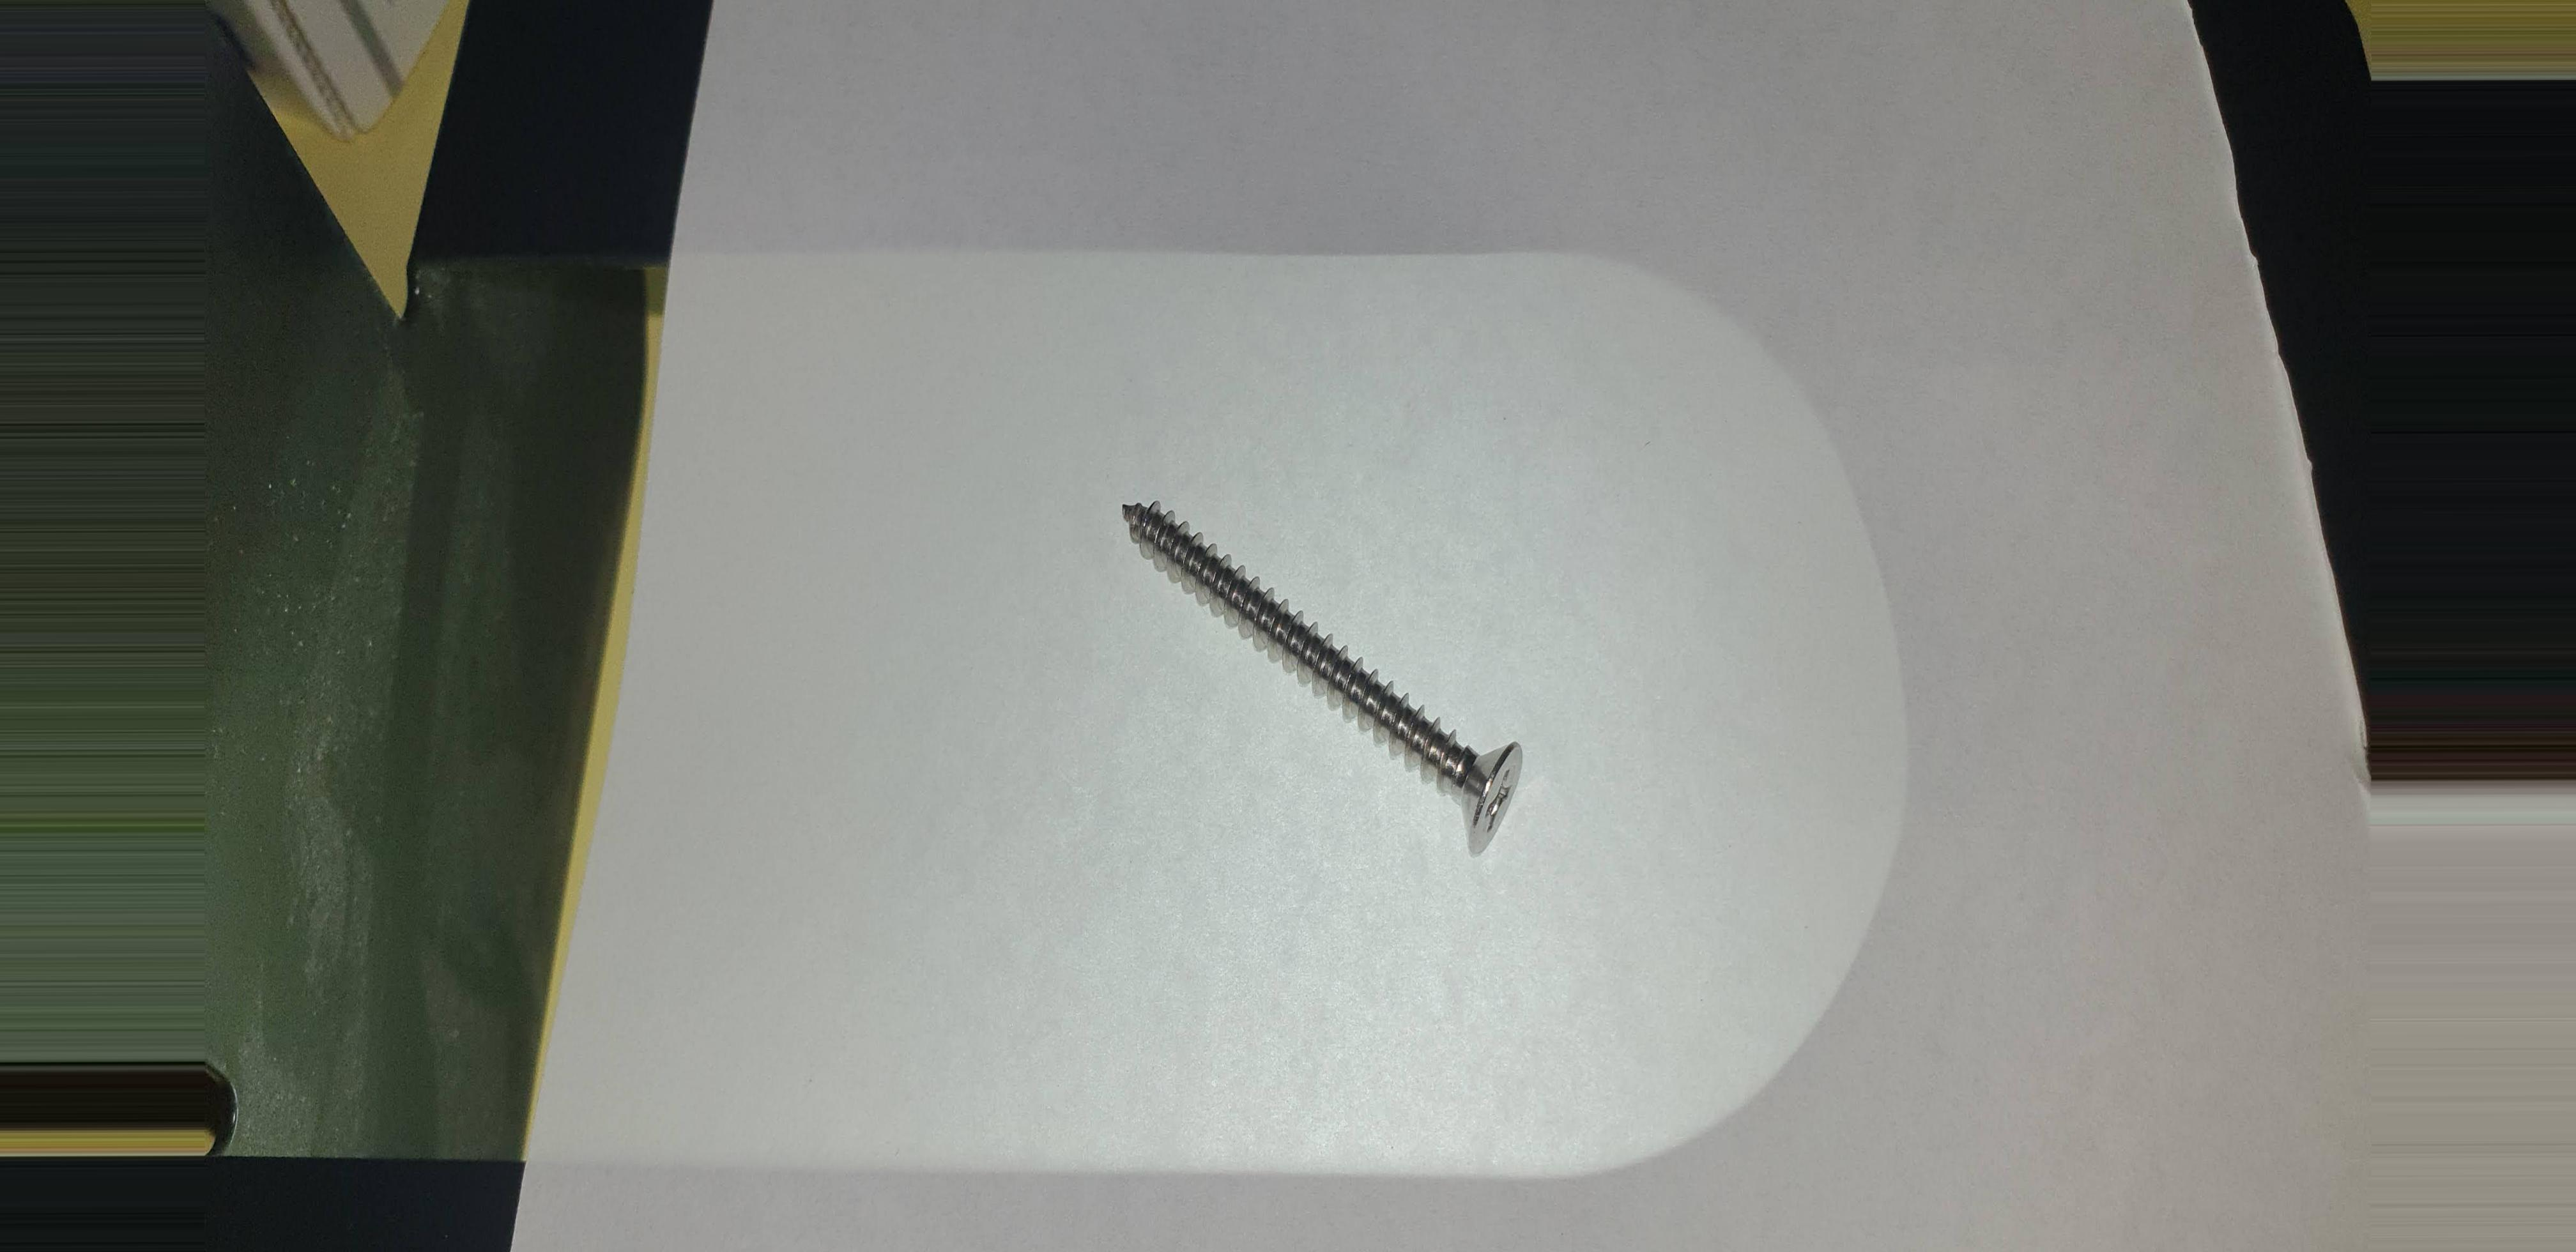fastener: (1058, 421, 1630, 937)
